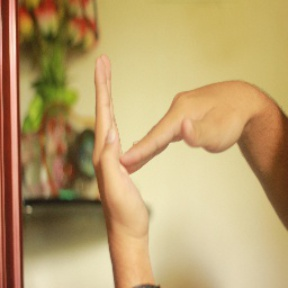Z: (79, 50, 249, 235)
